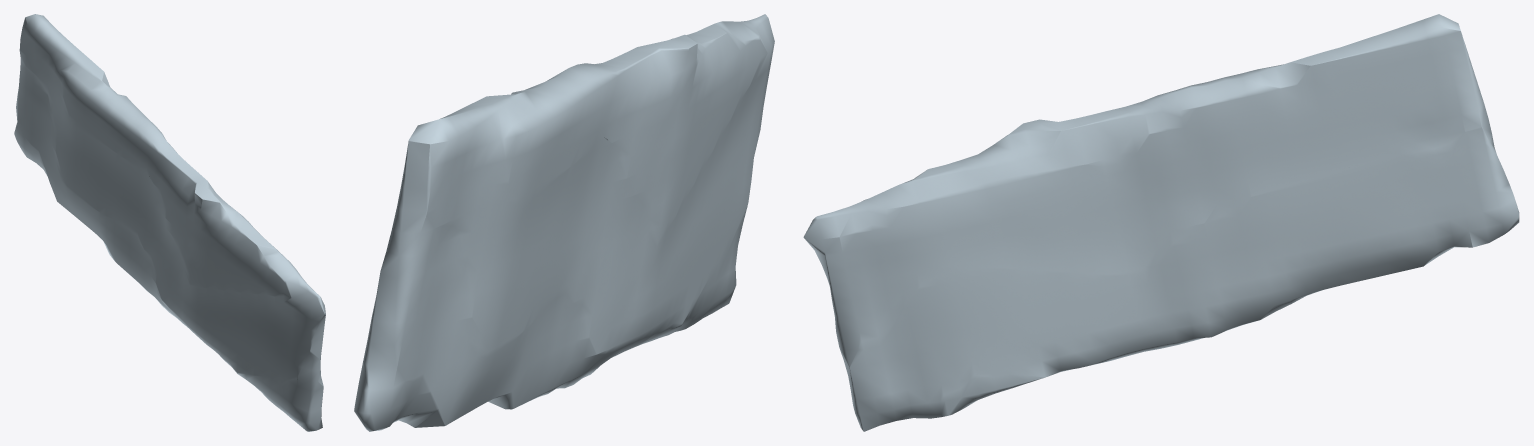
The model's file is mirror.gltf.
3 views of the same model, side by side, from view 1: azimuth 30°, elevation 25°; view 2: azimuth 150°, elevation 25°; view 3: azimuth 270°, elevation 25° (orthographic). The views are drawn at different scales.
Parts seen in each view (by area): view 1: mirror; view 2: mirror; view 3: mirror.
Boxes of the visible parts, x1,y1,x2,y2 form: mirror: [14, 14, 325, 431]; mirror: [354, 14, 774, 431]; mirror: [803, 14, 1519, 431].
Size of the model in its own units: 8.84 by 28.86 by 50.54.
1 material, 1 textured.
